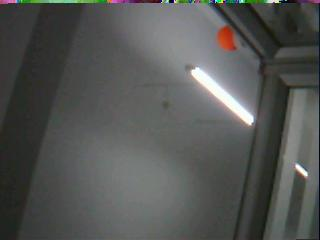oball: (217, 25, 236, 52)
